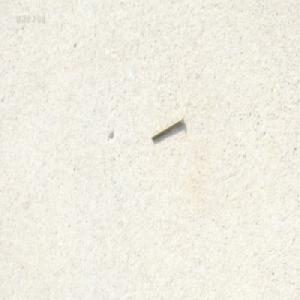Bolt: (150, 113, 183, 141)
